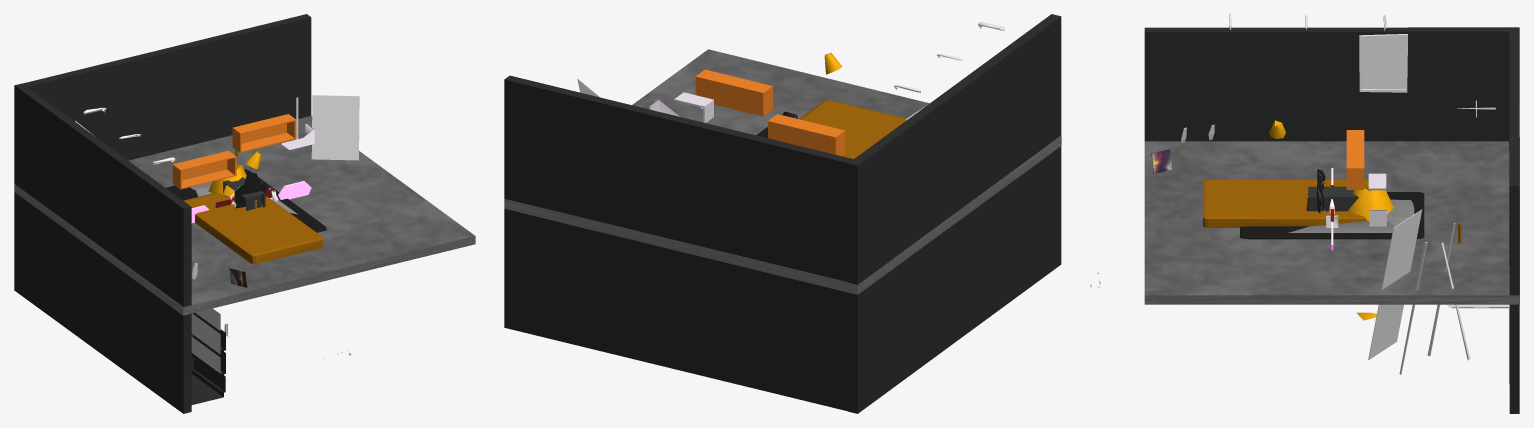
File: game_room-optimized.glb
3 renders of one model, left to right at view 1: azimuth 30°, elevation 25°; view 2: azimuth 150°, elevation 25°; view 3: azimuth 270°, elevation 25°, orthographic. The views are drawn at different scales.
Parts seen in each view (by area): view 1: Object_150, Object_204, Object_152, Object_142, Object_5, Object_140, Object_160, Object_184, Object_192, Object_10, Object_4; view 2: Object_150, Object_204, Object_142, Object_152, Object_112; view 3: Object_204, Object_150, Object_152, Object_108, Object_5, Object_160, Object_202, Object_184, Object_142, Object_4, Object_140, Object_112 (+1 smaller).
Boxes of the visible parts, x1,y1,x2,y2 form: Object_150: (14,14,311,413); Object_204: (14,116,475,315); Object_152: (183,149,323,263); Object_142: (172,114,296,189); Object_5: (311,95,359,160); Object_140: (191,97,298,373); Object_160: (166,169,326,232); Object_184: (208,151,261,196); Object_192: (191,181,311,223); Object_10: (234,172,265,208); Object_4: (223,177,265,210); Object_150: (504,14,1061,413); Object_204: (504,49,1061,294); Object_142: (695,69,845,156); Object_152: (799,100,906,158); Object_112: (649,92,713,122); Object_204: (1144,137,1519,304); Object_150: (1144,27,1519,413); Object_152: (1203,179,1461,243); Object_108: (1090,14,1495,360); Object_5: (1368,209,1422,360); Object_160: (1240,192,1424,239); Object_202: (1288,199,1414,232); Object_184: (1269,120,1393,320); Object_142: (1346,130,1364,189); Object_4: (1306,186,1358,211); Object_140: (1399,223,1509,374); Object_112: (1368,173,1386,226).
Size of the model in its own units: 125773 by 91290 by 144070.
Materials: 53 (12 with a texture image).
